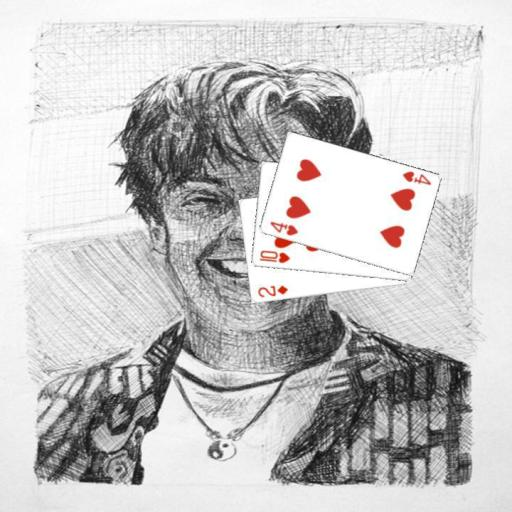10H: (256, 248, 291, 265)
2D: (255, 282, 289, 299)
4H: (399, 168, 432, 187), (267, 219, 299, 238)
